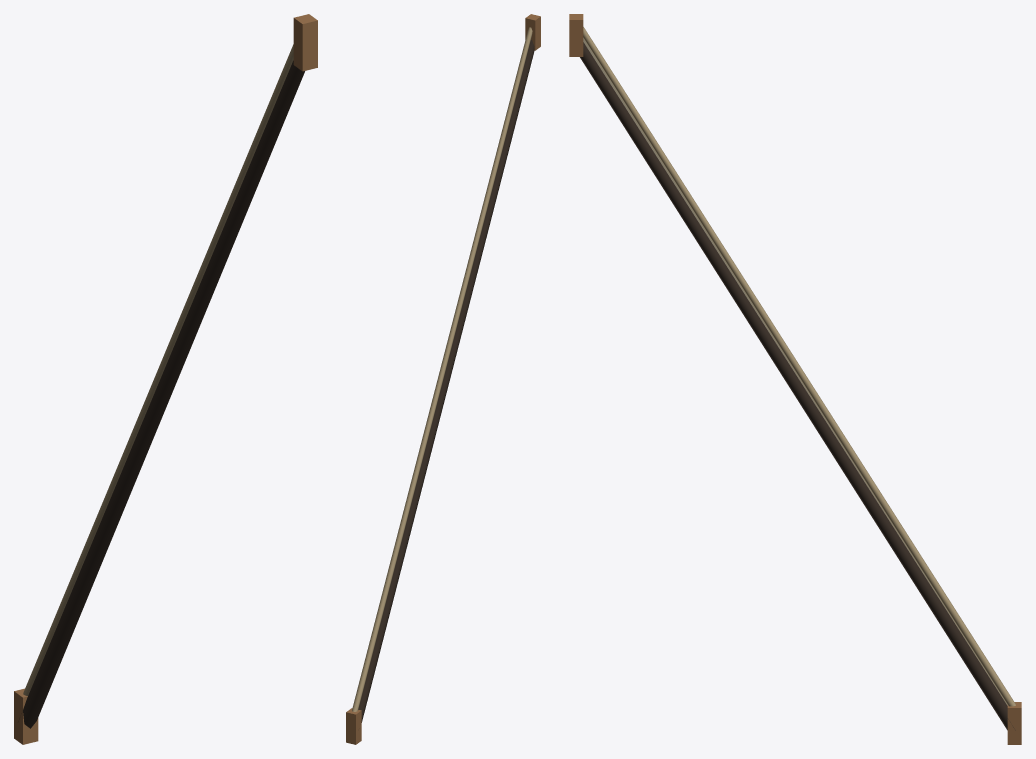
Rendered from Roof_GableEdge_60_Right.glb.
3 views of the same model, side by side, from view 1: azimuth 30°, elevation 25°; view 2: azimuth 150°, elevation 25°; view 3: azimuth 270°, elevation 25° (orthographic). The views are drawn at different scales.
Visible parts, largest first — view 1: _MeshInstance3D_3631, _MeshInstance3D_3632, _MeshInstance3D_3634, _MeshInstance3D_3633; view 2: _MeshInstance3D_3631, _MeshInstance3D_3632, _MeshInstance3D_3633, _MeshInstance3D_3634; view 3: _MeshInstance3D_3631, _MeshInstance3D_3632, _MeshInstance3D_3630.
Boxes of the visible parts, x1=… form: _MeshInstance3D_3631: x1=18, y1=60, x2=304, y2=728; _MeshInstance3D_3632: x1=23, y1=44, x2=293, y2=695; _MeshInstance3D_3634: x1=293, y1=14, x2=317, y2=71; _MeshInstance3D_3633: x1=14, y1=688, x2=38, y2=744; _MeshInstance3D_3631: x1=358, y1=40, x2=534, y2=722; _MeshInstance3D_3632: x1=352, y1=27, x2=532, y2=711; _MeshInstance3D_3633: x1=346, y1=708, x2=361, y2=744; _MeshInstance3D_3634: x1=525, y1=14, x2=540, y2=50; _MeshInstance3D_3631: x1=580, y1=42, x2=1015, y2=730; _MeshInstance3D_3632: x1=583, y1=27, x2=1015, y2=706; _MeshInstance3D_3630: x1=583, y1=38, x2=1007, y2=705.
Bounding box in the file's own units: 0.0955 × 5.48 × 3.09.
